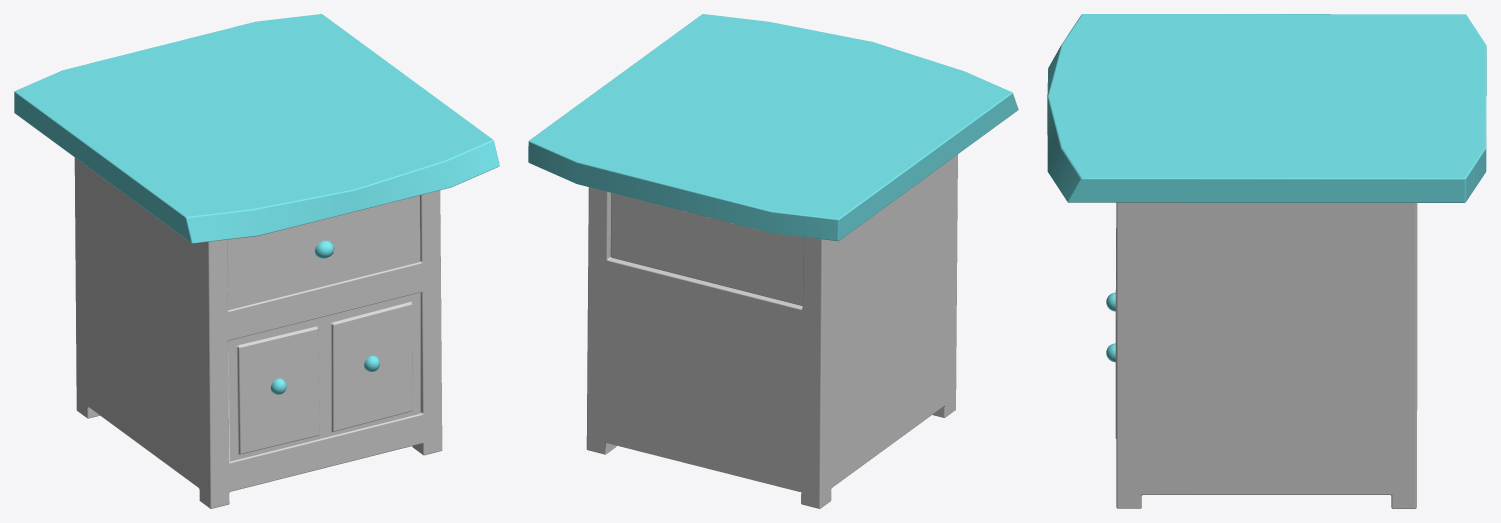
Rendered from tiroir.glb.
The picture shows the model from 3 angles, left to right: view 1: azimuth 30°, elevation 25°; view 2: azimuth 150°, elevation 25°; view 3: azimuth 270°, elevation 25°; orthographic projection. The views are drawn at different scales.
Visible parts, largest first — view 1: Plane; view 2: Plane; view 3: Plane.
Boxes of the visible parts, box(x1,y1,x2,y2) form: Plane: box(14, 14, 499, 508); Plane: box(528, 14, 1018, 508); Plane: box(1047, 14, 1486, 508).
Size of the model in its own units: 2.65 by 2.59 by 2.92.
